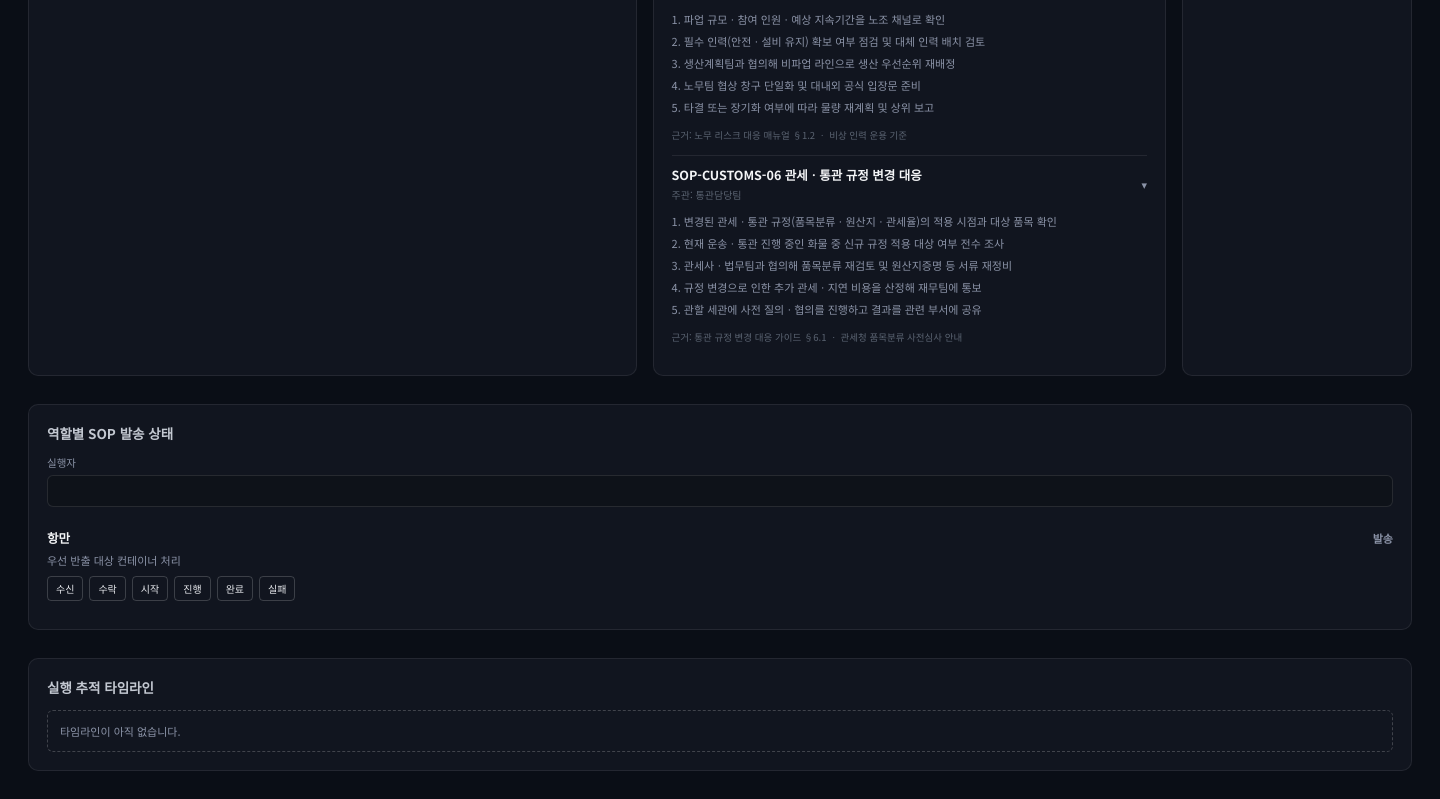
Scenario: IncidentDetailPage — SOP 상태 전이 및 타임라인 › 상태 전이가 실패하면 에러 문구를 보여주고 기존 화면은 유지한다
(page scrolled)
expect the text "항만" is shown: met, box [47,529,70,548]
In the field labelled "실행자": (720, 491) [47,475,1393,507], type "박현장"
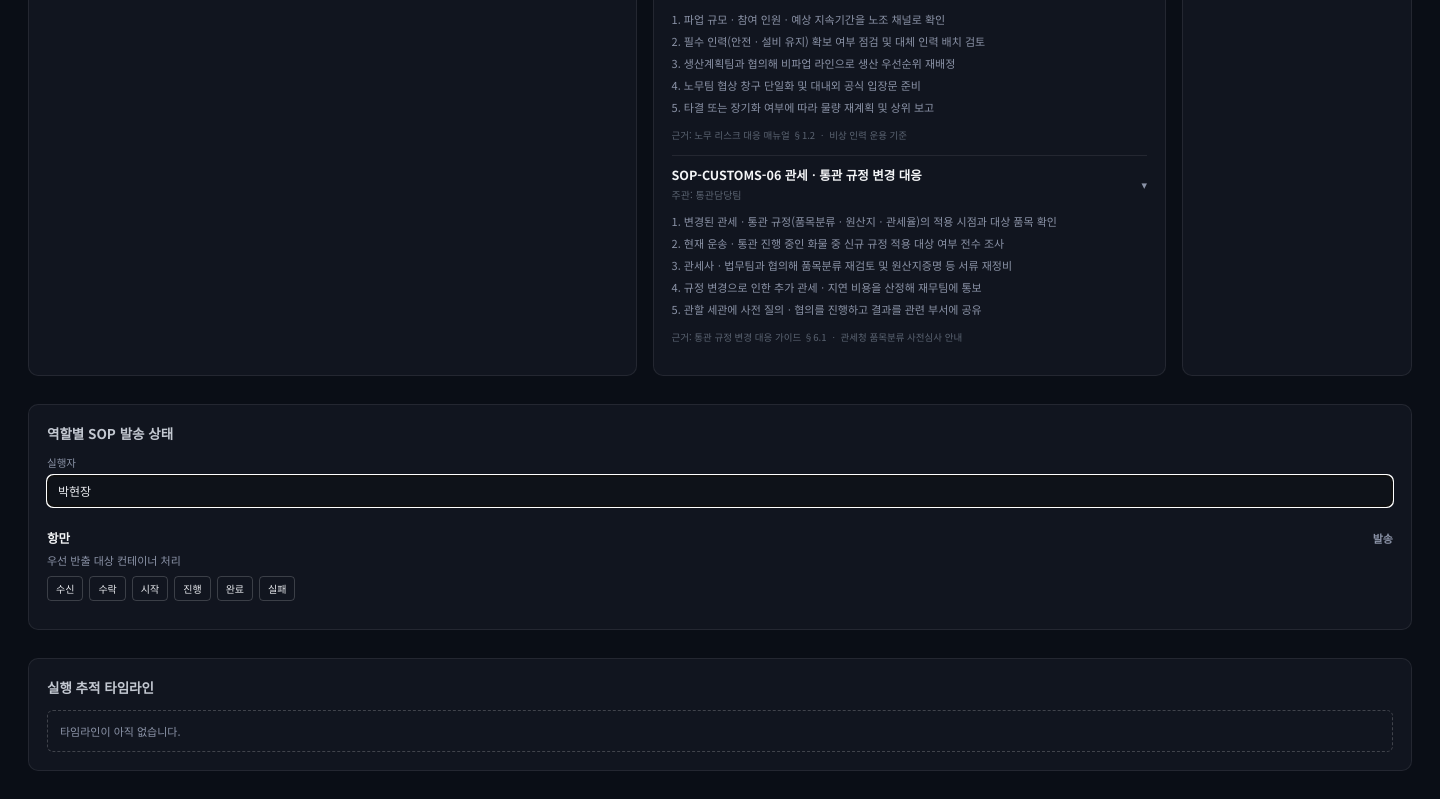
Click the button "수신": (65, 589) [47,576,83,601]
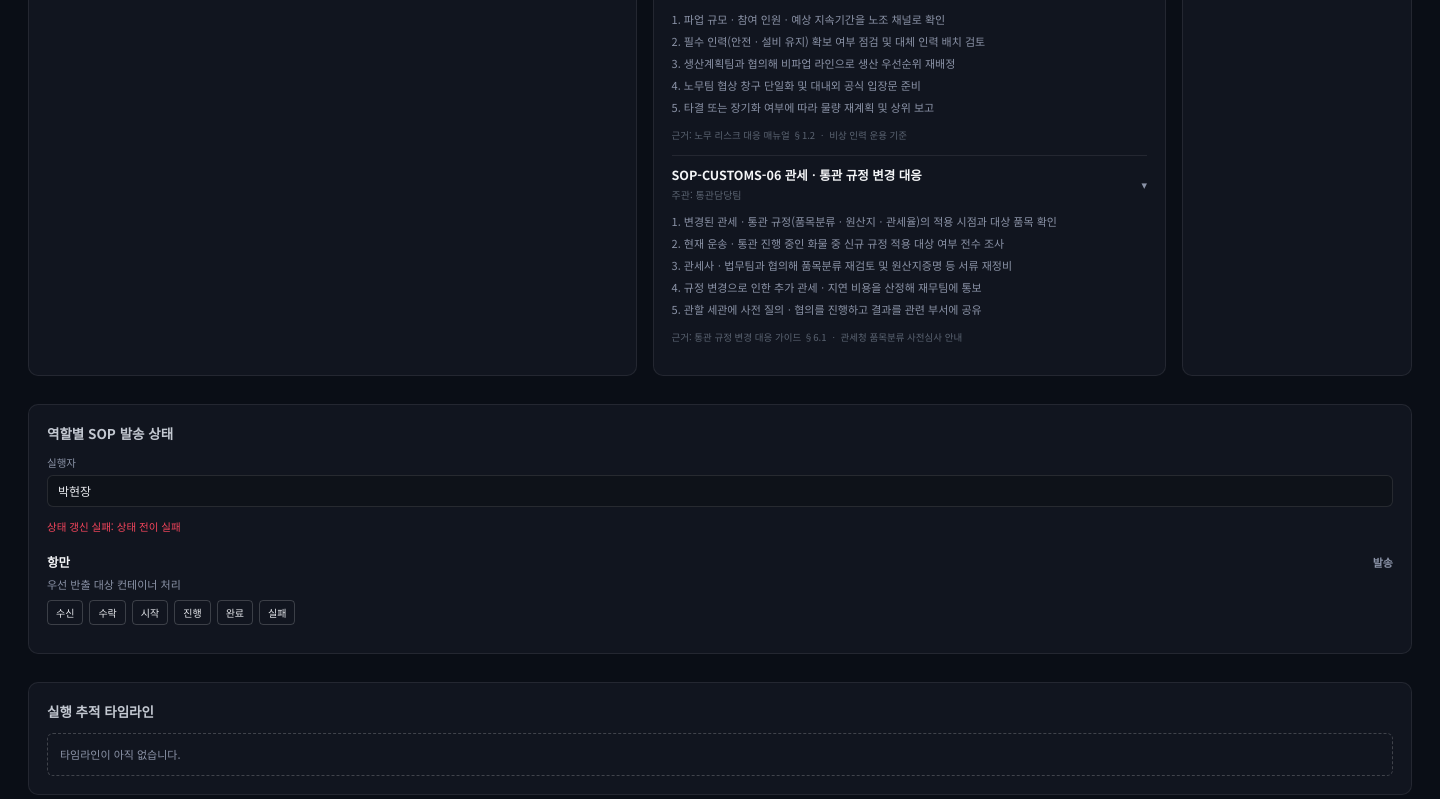
expect the text "항만" is shown: met, box [47,553,70,572]
expect the text "상태 갱신 실패: 상태 전이 실패" is shown: met, box [47,519,181,534]
